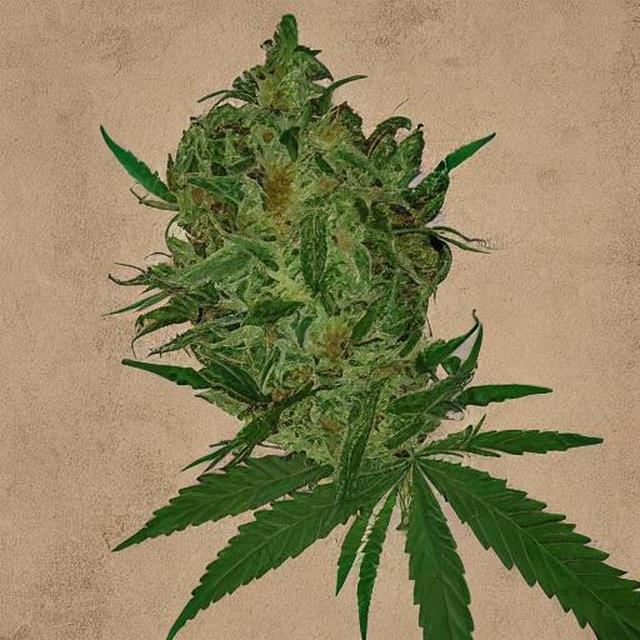Marijuana Plant: (122, 0, 640, 638)
